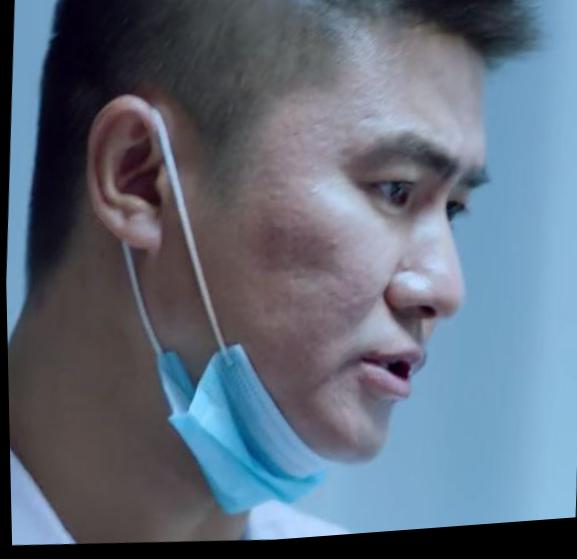WRONG: (189, 79, 494, 492)
